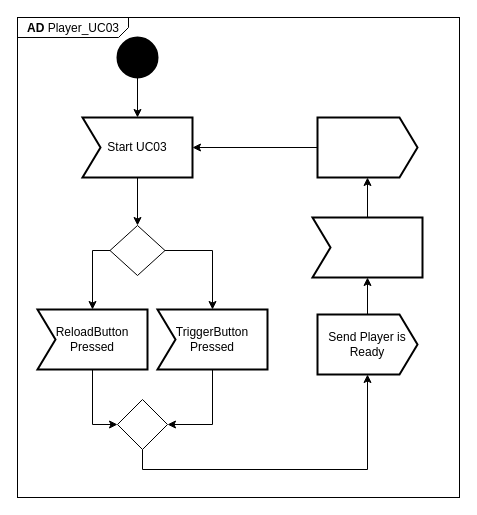
The diagram is 477 pixels wide and 515 high, and some of its shapes have lost their labels. The box of each missing label's shape, as (x1, y1, x2, y2) in pixels:
Start UC041: (316, 116, 418, 178)
StartGame: (311, 216, 423, 278)
